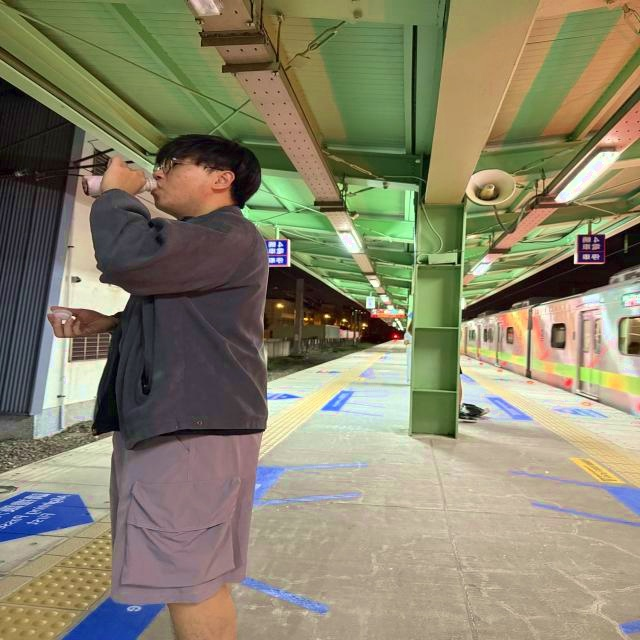Sin_Casco_Mascarrilla: (158, 134, 260, 211)
Sin_Chaleco: (110, 218, 267, 434)
